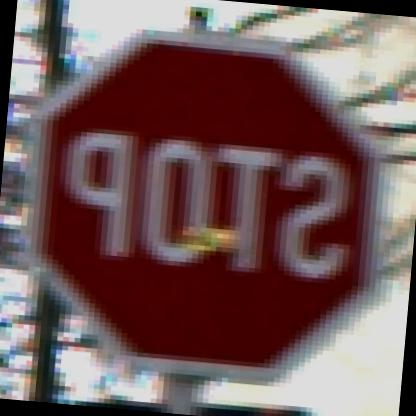stop: (7, 10, 387, 404)
